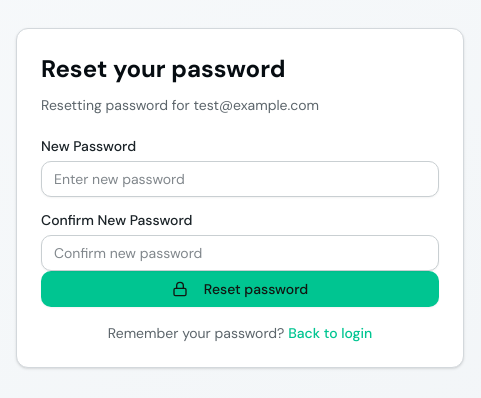
Test case: ResetPassword Page › Password Mismatch › shows error when passwords do not match
Type "ValidPass123!" into the password field with placeholder "Enter new password" at (240, 179), box [41,161,439,197]
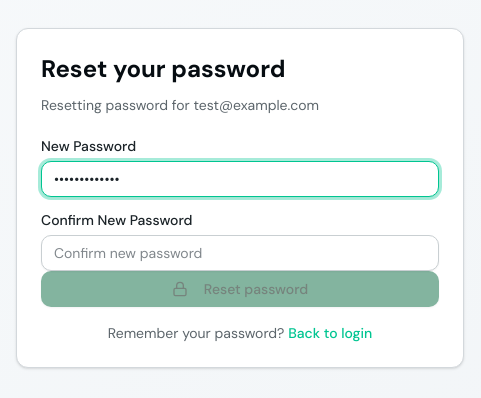
Type "DifferentPass123!" into the password field with placeholder "Confirm New Password" at (240, 253), box [41,235,439,271]
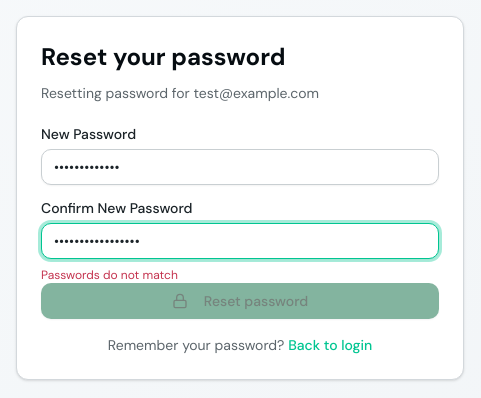
Now the text "Passwords do not match" is shown, box [41,267,178,283]
